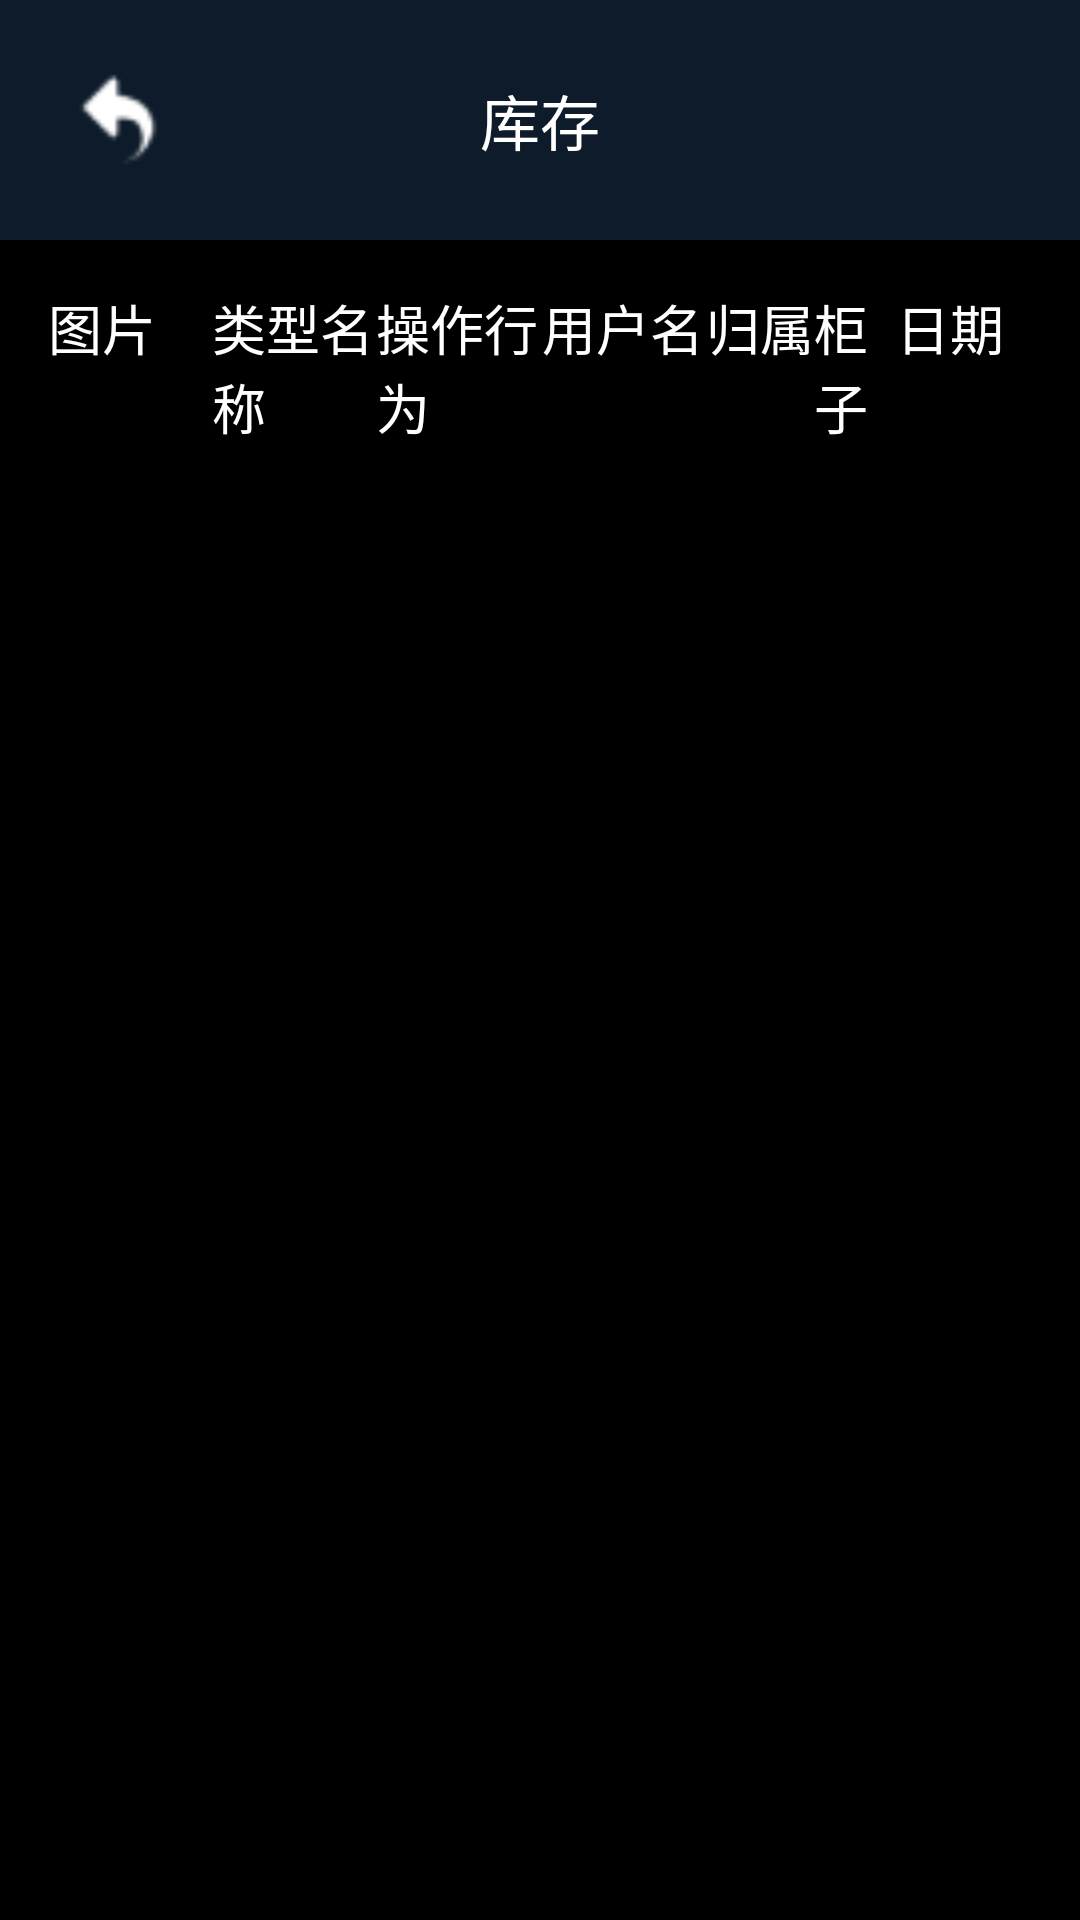

Icons on this 1080px×1920px Android screen, each with its box as (x1, y1, x2, y2):
返回: (82, 75, 156, 160)
